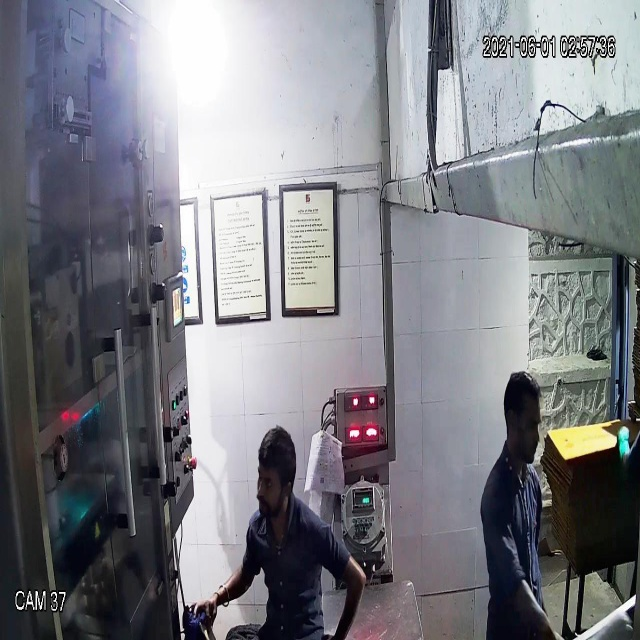Sin_gafas: (249, 461, 297, 494)
